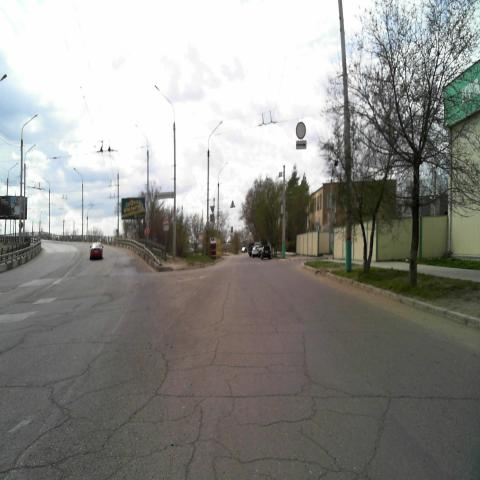3_2: (296, 122, 306, 140)
8_3_1: (296, 141, 308, 150)
